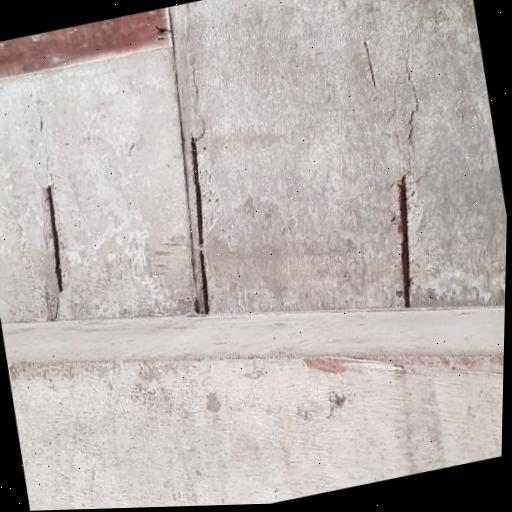exposed_rebar: (190, 136, 209, 313), (46, 189, 63, 291), (399, 176, 410, 308)
